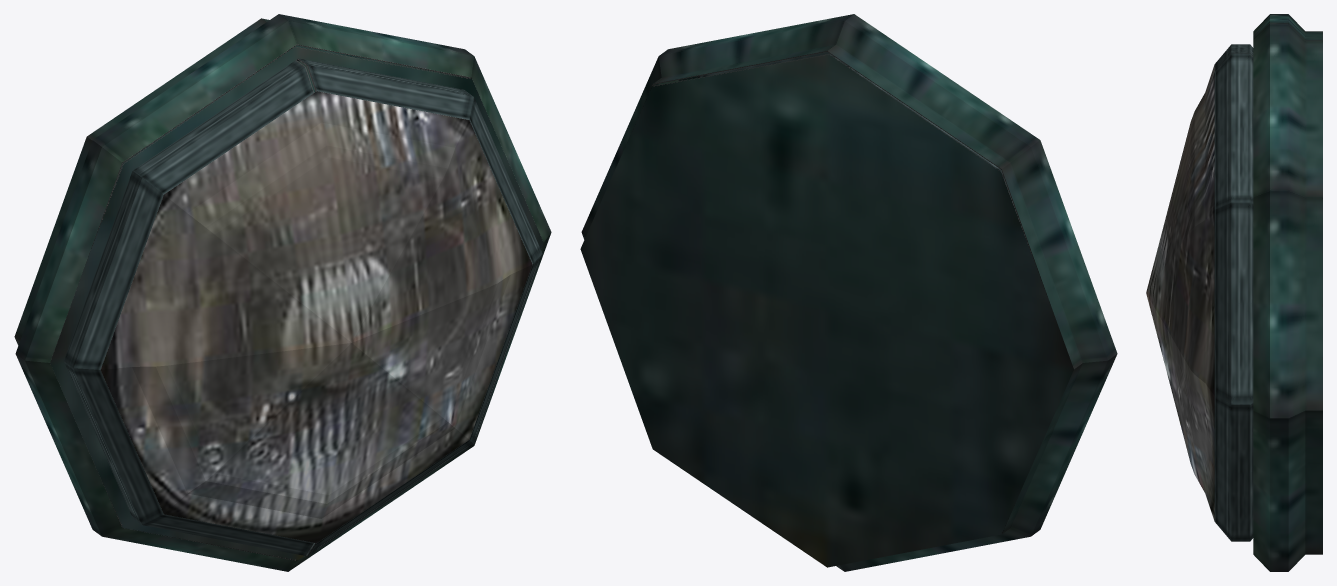
File: headlight.fbx
3 renders of one model, left to right at view 1: azimuth 30°, elevation 25°; view 2: azimuth 150°, elevation 25°; view 3: azimuth 270°, elevation 25°, orthographic. The views are drawn at different scales.
Parts seen in each view (by area): view 1: Cylinder.001; view 2: Cylinder.001; view 3: Cylinder.001.
Part boxes in pixels (<box>): Cylinder.001: <box>14,14,551,571</box>; Cylinder.001: <box>580,14,1117,571</box>; Cylinder.001: <box>1146,14,1322,571</box>.
Bounding box in the file's own units: 42.67 × 42.67 × 12.7.
2 materials, 2 textured.
